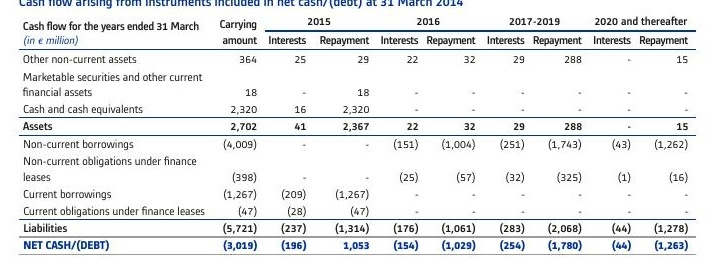table: (0, 0, 711, 266)
